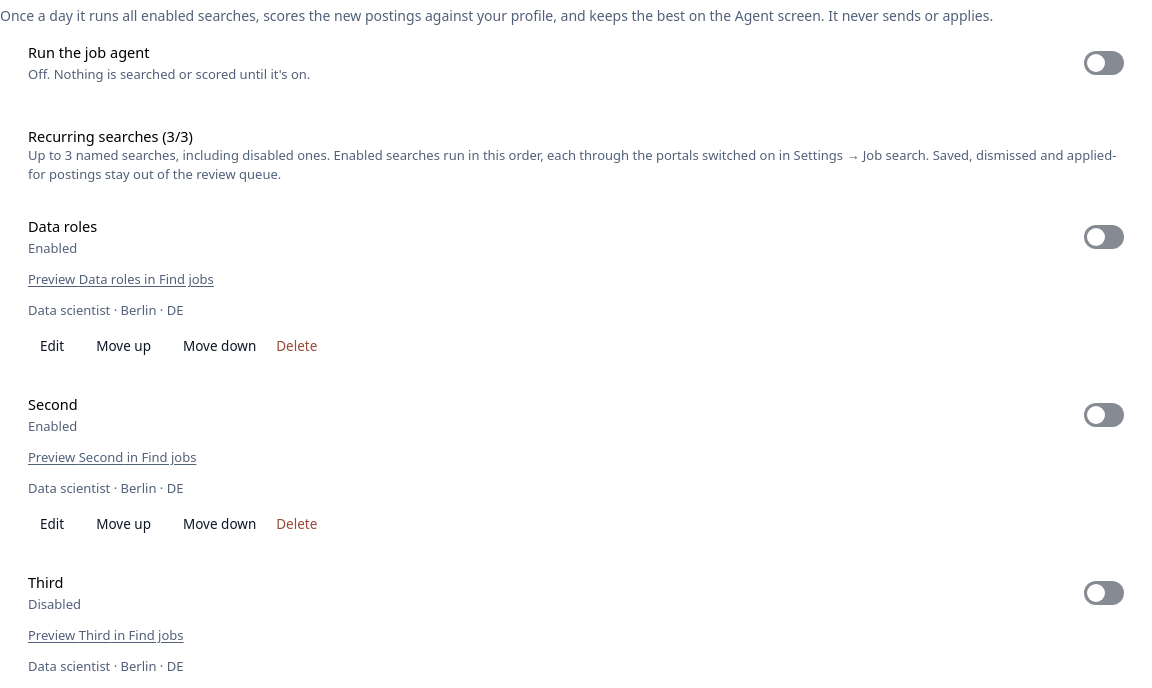
Test: Settings → Job agent › caps at three including disabled searches, moves accessibly and confirms deletion
Expected: the button with aria-label "Move up: Data roles" is disabled, [84,332,163,362]
Click the button with aria-label "Move up: Second". click: (124, 525)
box: [84,510,163,540]
(page scrolled)
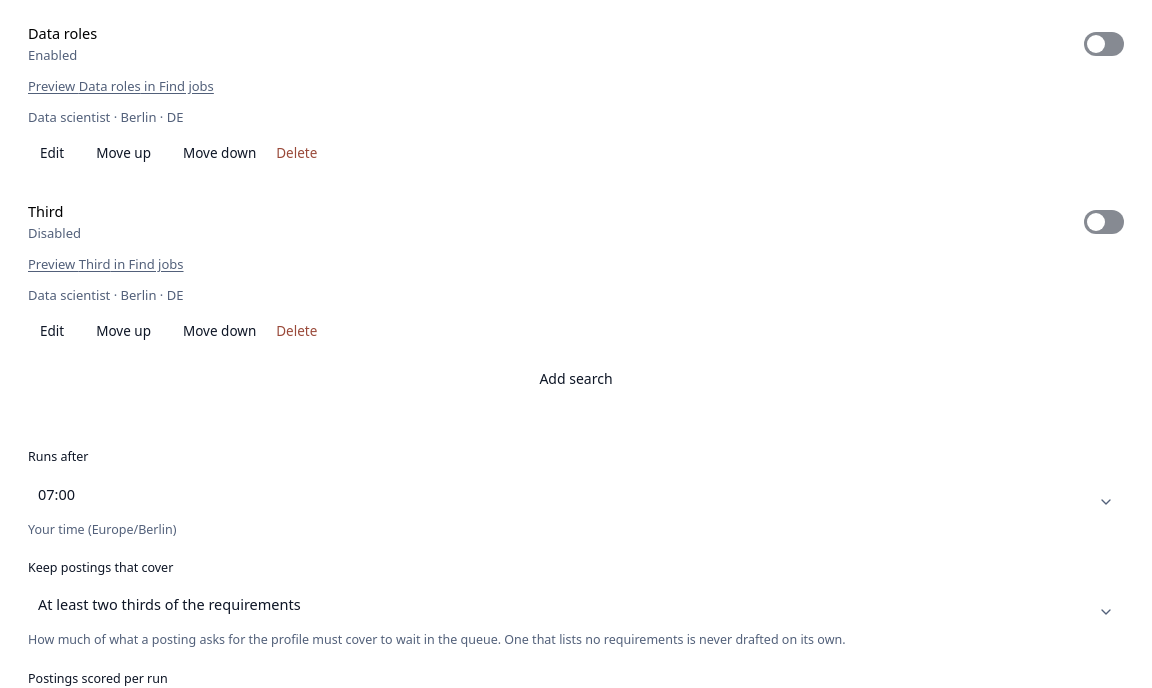
Click the button with aria-label "Delete Third". click: (297, 331)
box: [276,316,317,346]
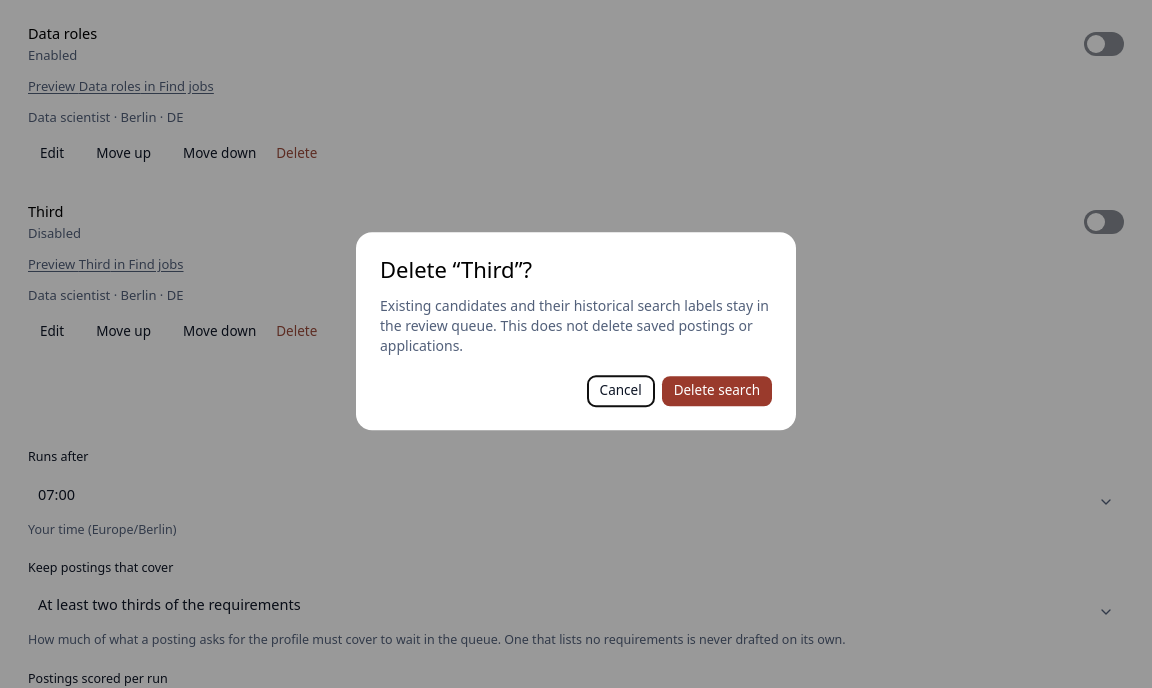
Now the dialog shows "Existing candidates and their historical search labels stay", box [380,296,769,355]
Click the button "Delete search". click: (717, 391)
box: [662,376,772,406]
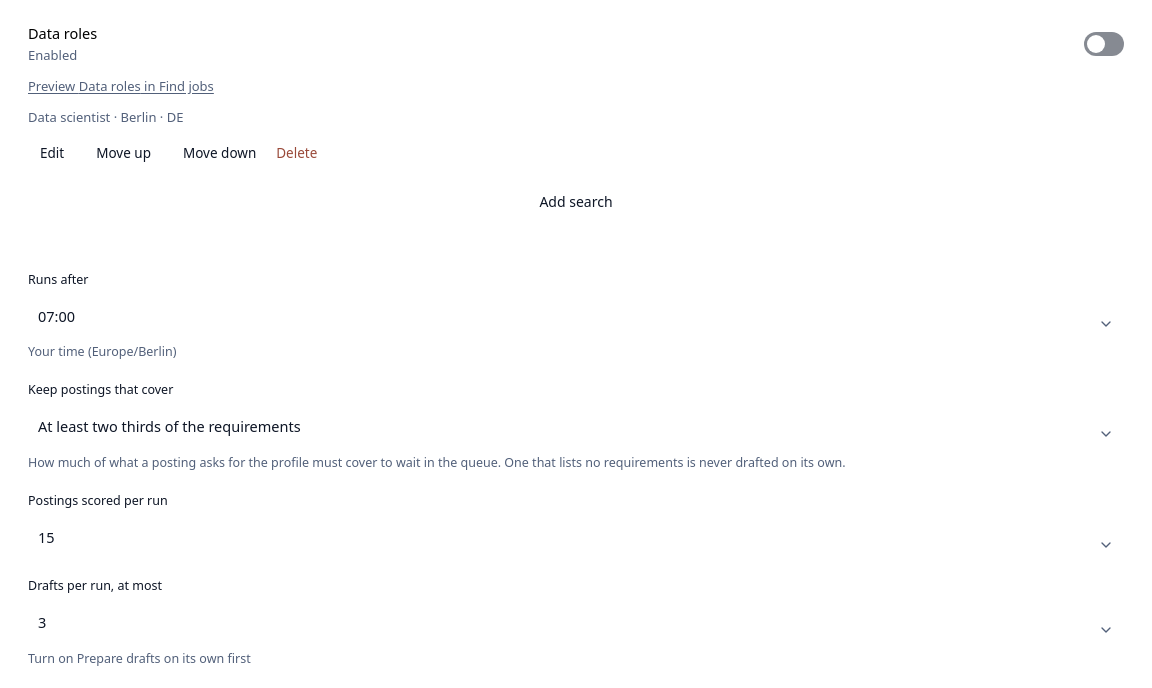
Now the button "Add search" is enabled, box [28,185,1124,219]
